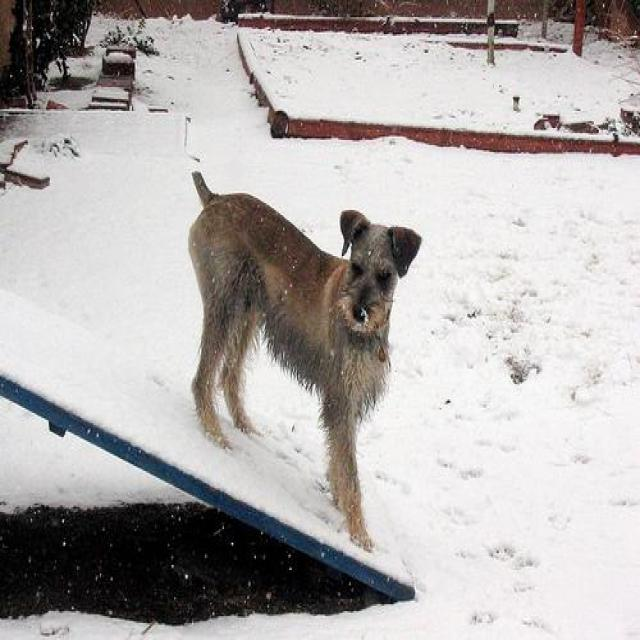standard_schnauzer: (187, 168, 421, 552)
